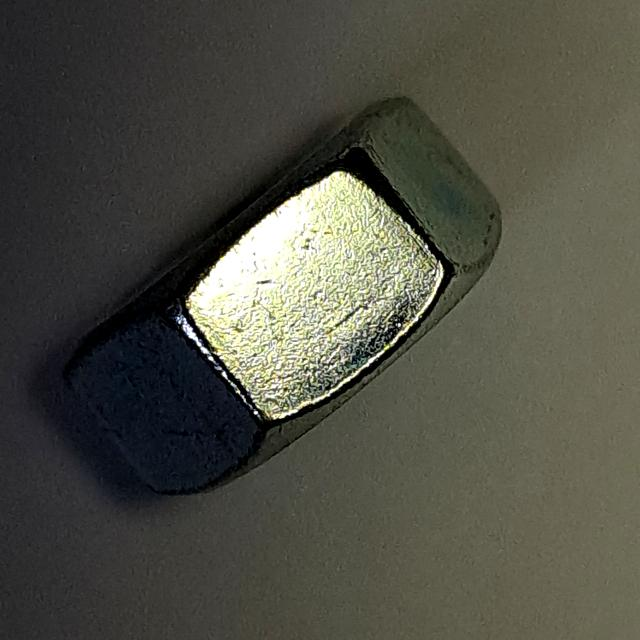Side_Excellent: (55, 89, 513, 508)
